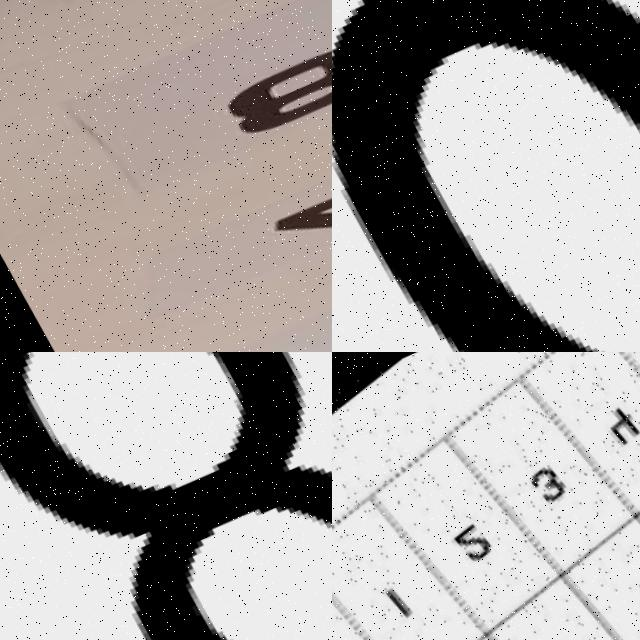1: (371, 581, 413, 627)
2: (436, 510, 500, 571)
3: (512, 453, 575, 515)
4: (215, 102, 332, 286), (590, 393, 640, 453)
8: (0, 352, 332, 640), (167, 6, 332, 164)
O: (332, 0, 640, 352)
